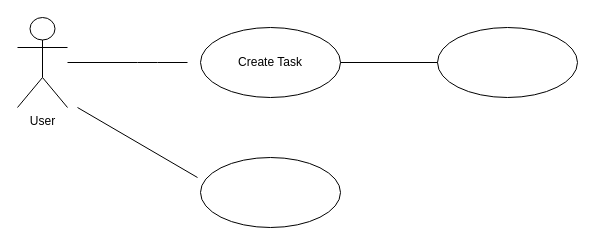
The diagram is 595 pixels wide and 245 high, and some of its shapes have lost their labels. Each missing label, with the centre of its shape:
"Delete All Tasks" belongs at [270,192].
"Delete Task" belongs at [507,62].
